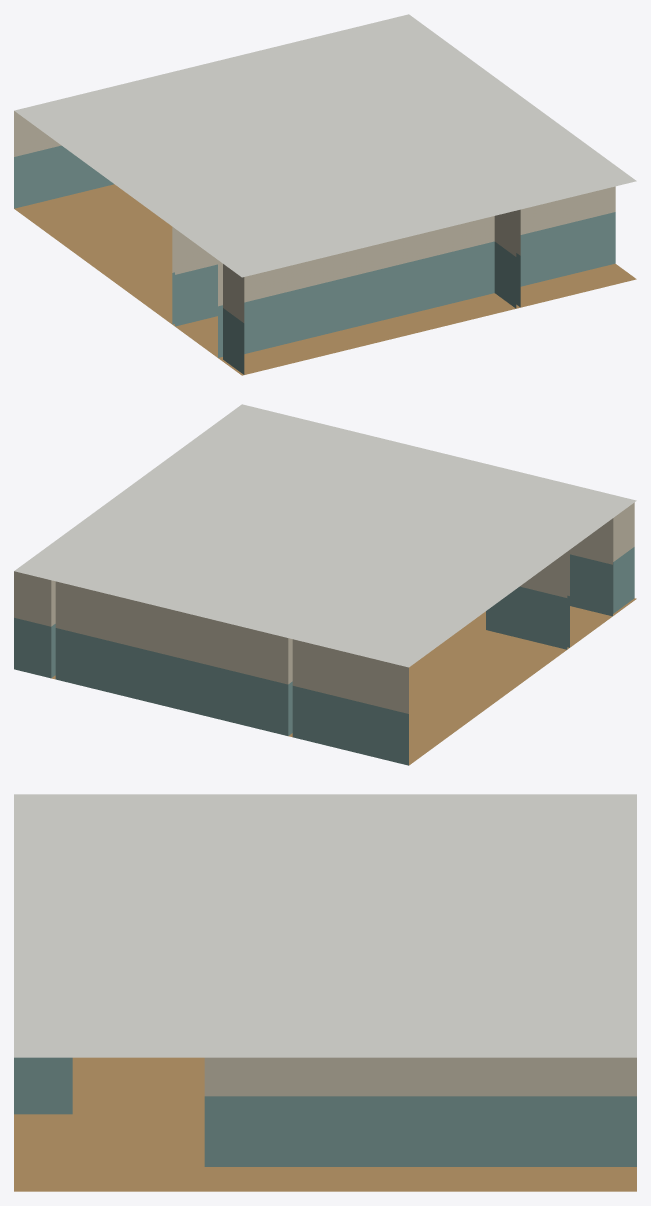
File: chunk_3_0.glb
3 views of the same model, one above another, from view 1: azimuth 30°, elevation 25°; view 2: azimuth 150°, elevation 25°; view 3: azimuth 270°, elevation 25° (orthographic). The views are drawn at different scales.
Parts seen in each view (by area): view 1: chunk_3_0; view 2: chunk_3_0; view 3: chunk_3_0.
Boxes of the visible parts, x1=… form: chunk_3_0: x1=14, y1=14, x2=636, y2=375; chunk_3_0: x1=14, y1=404, x2=636, y2=765; chunk_3_0: x1=14, y1=794, x2=636, y2=1191.
Size of the model in its own units: 12 by 2.85 by 12.
